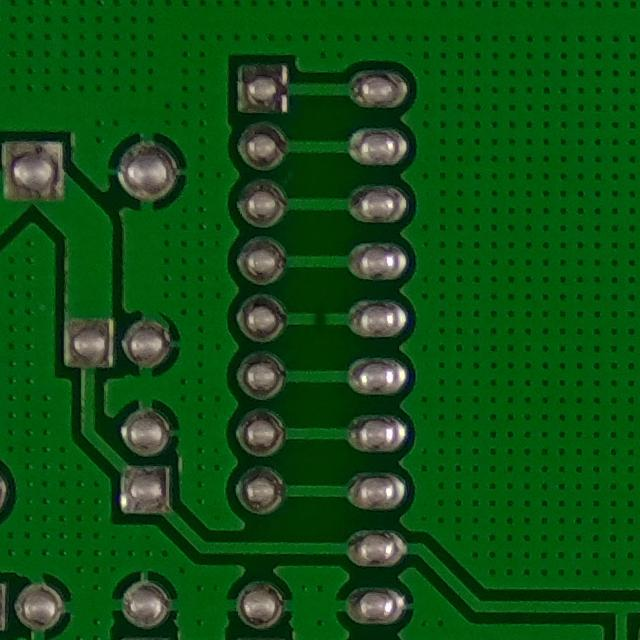open_circuit: (299, 302, 342, 338)
